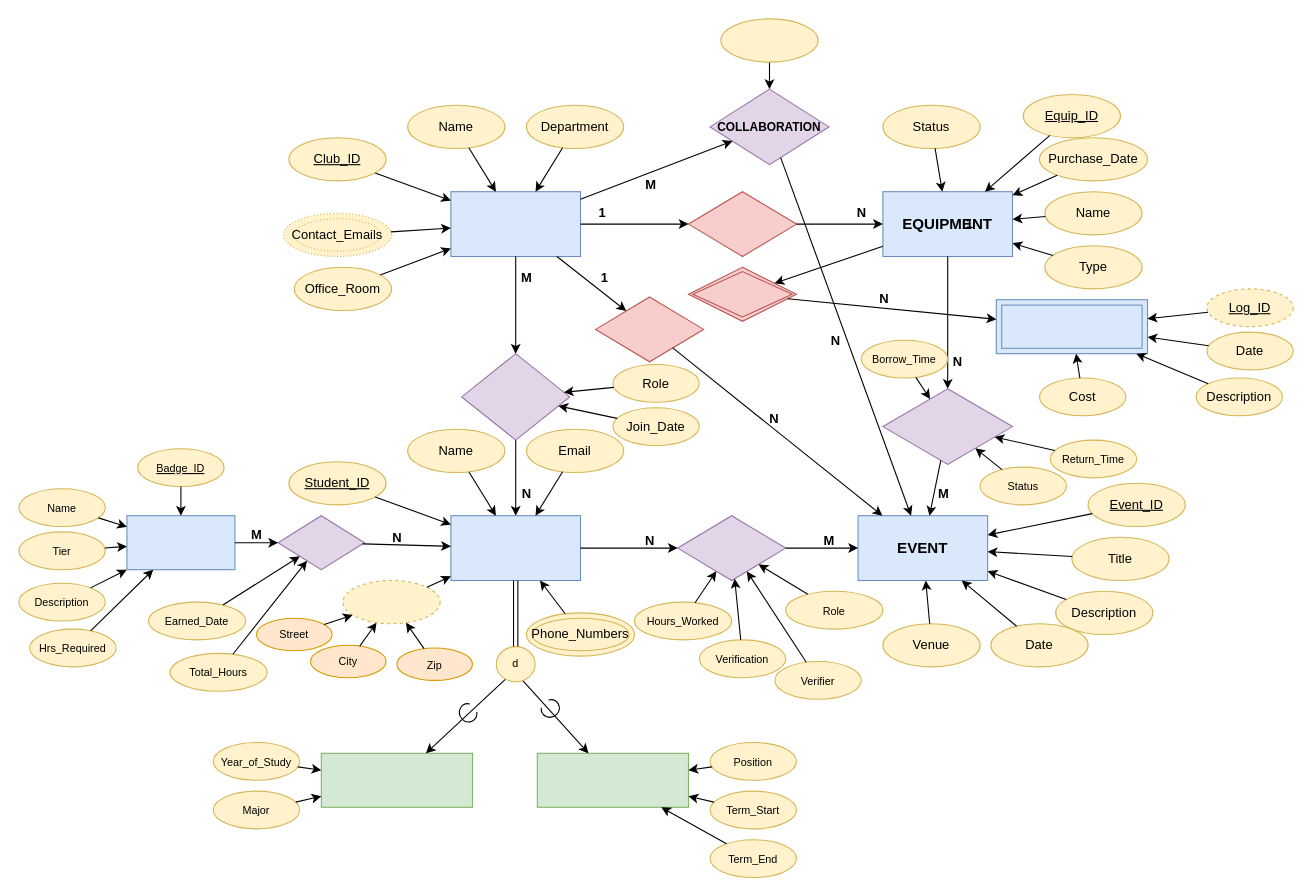
Some shapes in this 1312 by 896 pixel diagram are drawn without their labels. The shapes that lost their labels are listed below. From the top down, each one's box as (x1, y1, x2, y2) in pixels, then its label:
(720, 18, 818, 62): Contribution_Type
(450, 191, 580, 256): CLUB
(687, 191, 796, 256): owns
(687, 266, 796, 321): has_logs
(595, 296, 704, 362): organizes
(1001, 304, 1142, 348): MAINTENANCE_LOG
(461, 353, 570, 440): MEMBERSHIP
(882, 388, 1013, 464): RESOURCE_BOOKING
(126, 515, 235, 570): BADGE
(277, 515, 364, 570): earns
(450, 515, 580, 580): STUDENT
(677, 515, 786, 580): volunteers_in
(342, 579, 440, 624): Address
(320, 752, 473, 807): GENERAL_STUDENT
(536, 752, 688, 807): CLUB_EXECUTIVE
